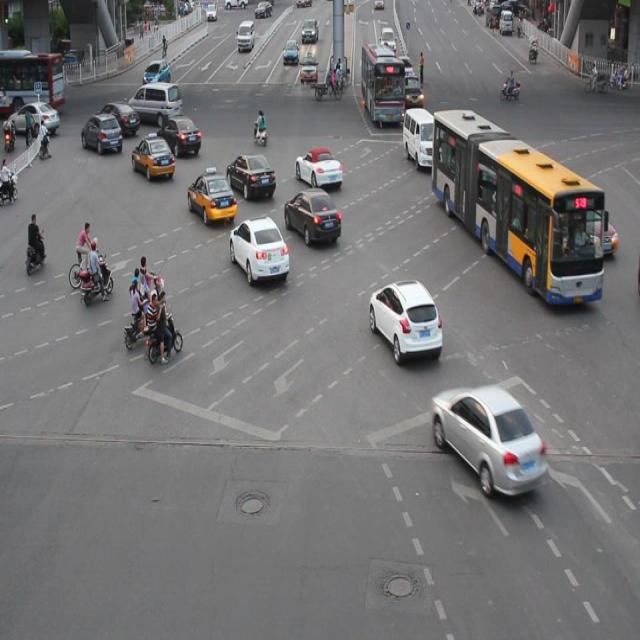car: (431, 382, 543, 496), (369, 276, 441, 360), (229, 214, 288, 284), (283, 187, 342, 246), (187, 170, 236, 222), (227, 152, 275, 198), (132, 134, 176, 180), (155, 116, 202, 158), (294, 147, 342, 188), (82, 112, 124, 153), (99, 101, 139, 135)
truck: (126, 82, 182, 124), (402, 107, 440, 167)
van: (432, 110, 602, 304)
